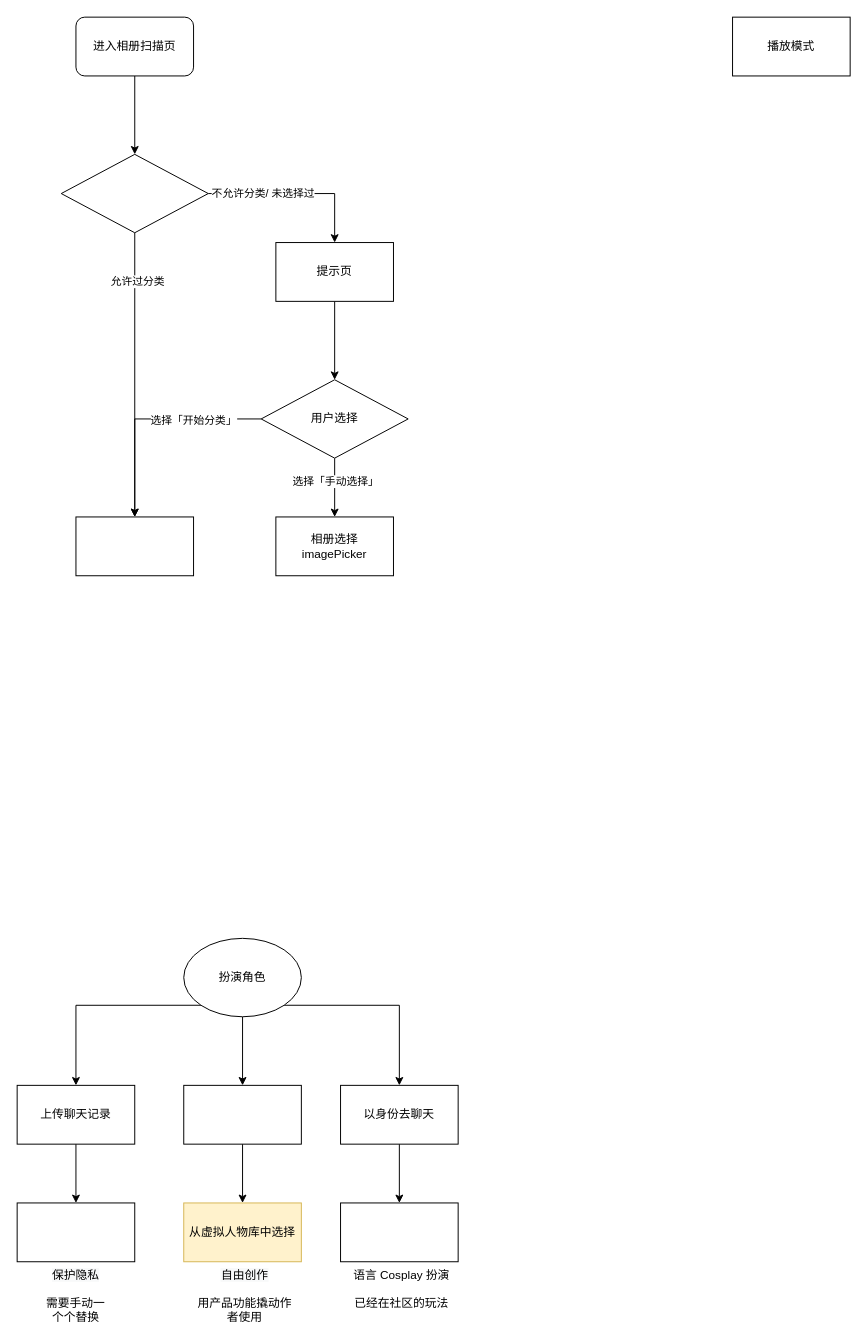
This 867x1342 diagram has some shape labels left out. The centre of each missing label's shape, as x and y in pixels:
从新开始创建: the point at 242,1114
扫描状态 Scan: the point at 134,546
是否选择过？: the point at 134,193
替换一方为虚拟人物: the point at 75,1232
设置特定人物的小号去聊天: the point at 399,1232
